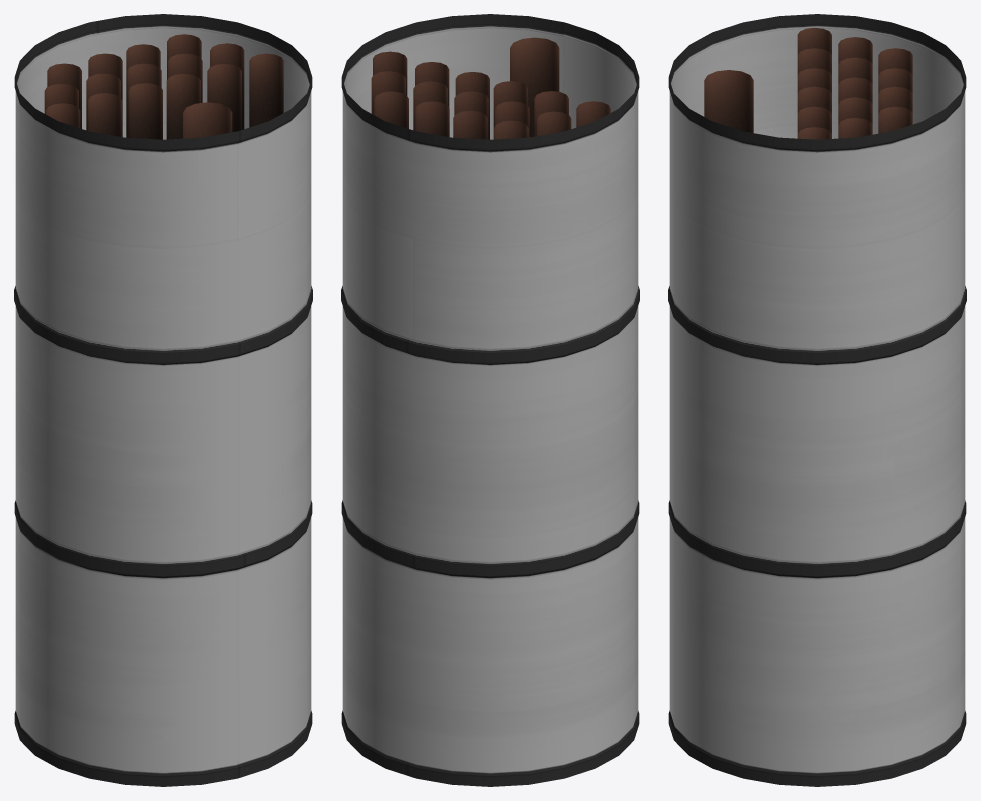
Rendered from 1.25m_Boiler_3m.obj.
3 views of the same model, side by side, from view 1: azimuth 30°, elevation 25°; view 2: azimuth 150°, elevation 25°; view 3: azimuth 270°, elevation 25° (orthographic).
Visible parts, largest first — view 1: 1.25m_Boiler_Jacket.002; view 2: 1.25m_Boiler_Jacket.002; view 3: 1.25m_Boiler_Jacket.002.
Part boxes in pixels (left/top/right/bottom): 1.25m_Boiler_Jacket.002: left=14, top=14, right=312, bottom=786; 1.25m_Boiler_Jacket.002: left=341, top=14, right=639, bottom=786; 1.25m_Boiler_Jacket.002: left=668, top=14, right=966, bottom=786.
Size of the model in its own units: 1.25 by 3 by 1.25.
1 material, 1 textured.
